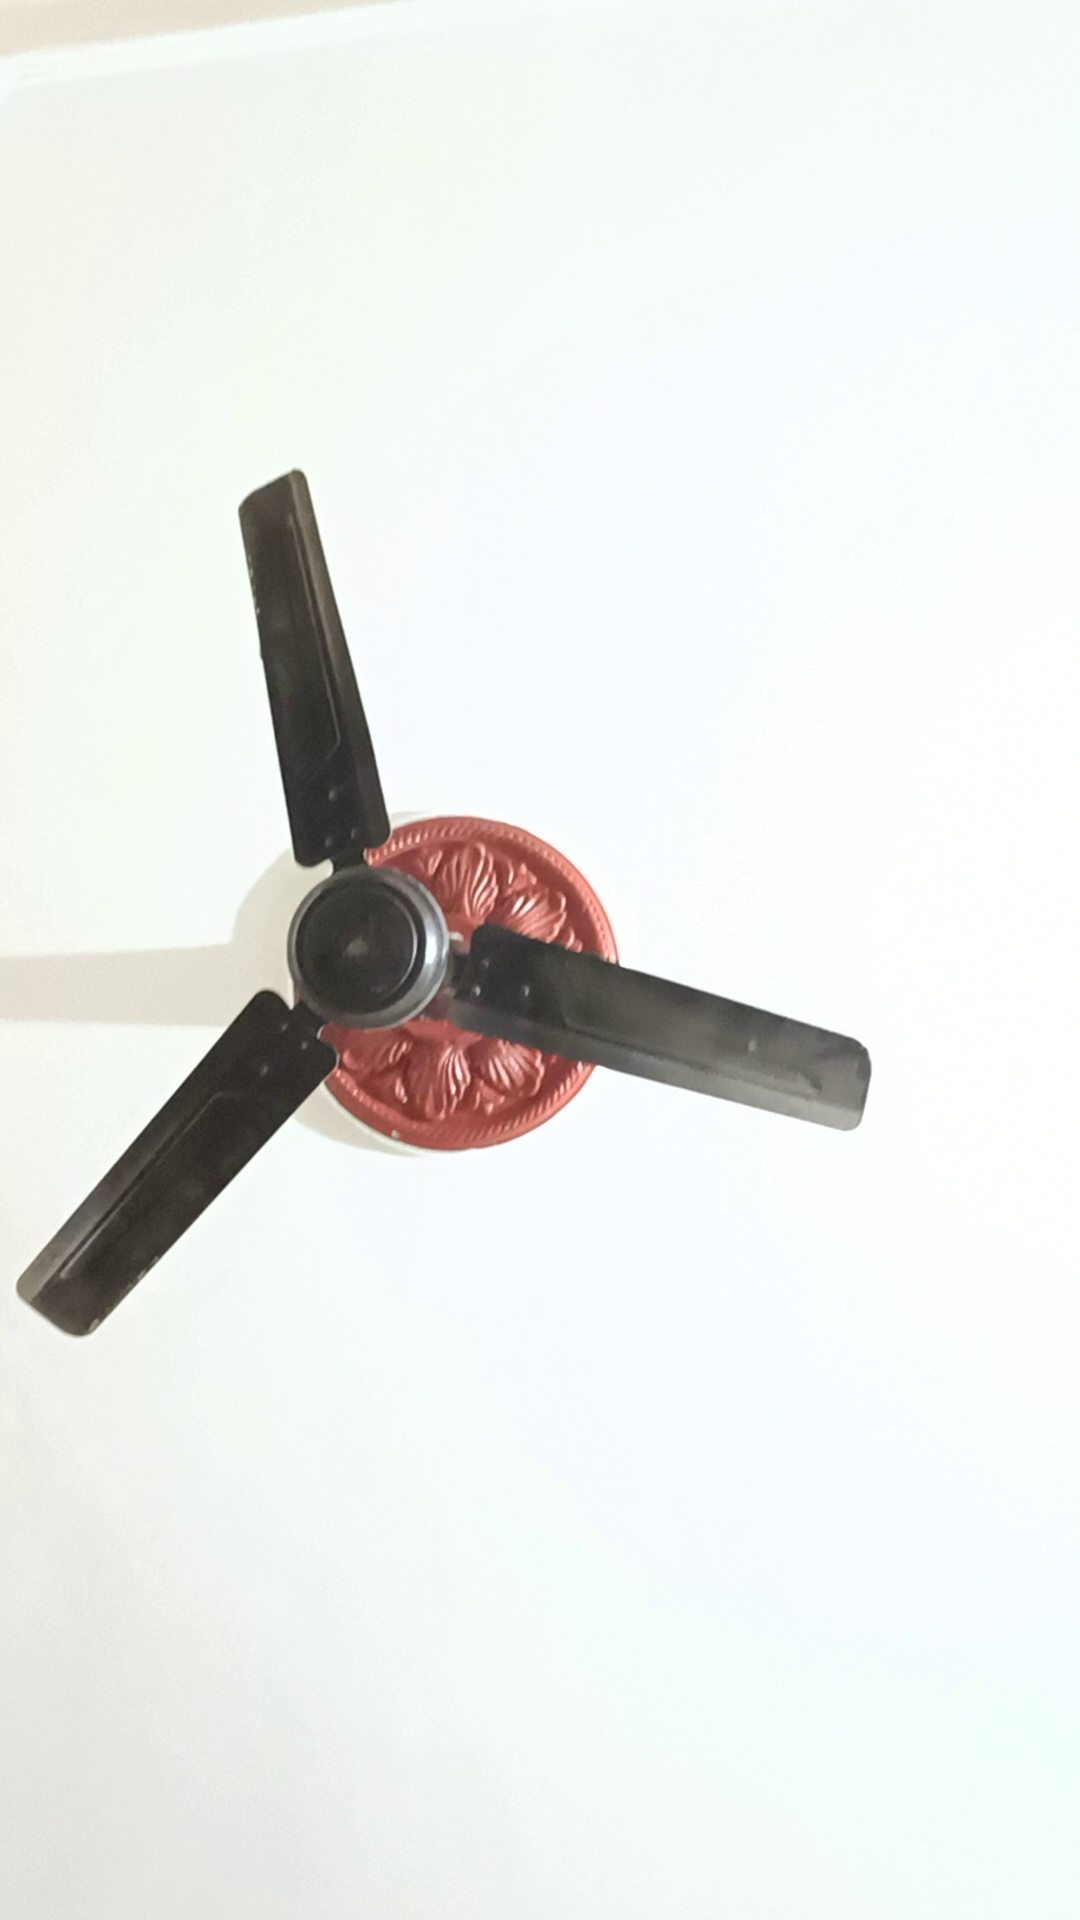fan: (21, 459, 876, 1342)
